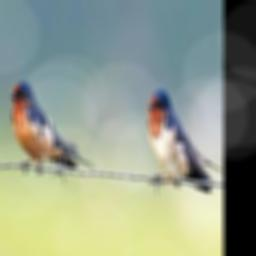Swallow: (7, 80, 93, 172), (146, 89, 221, 192)
